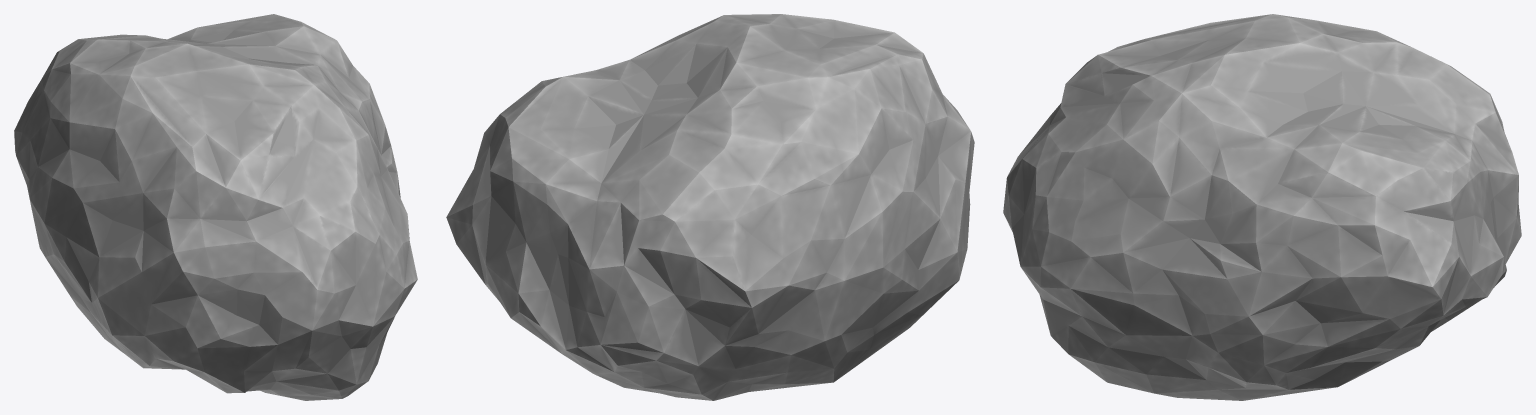
The model's file is stone1.glb.
The picture shows the model from 3 angles, left to right: view 1: azimuth 30°, elevation 25°; view 2: azimuth 150°, elevation 25°; view 3: azimuth 270°, elevation 25°; orthographic projection. The views are drawn at different scales.
Parts seen in each view (by area): view 1: R4; view 2: R4; view 3: R4.
Part boxes in pixels (box(x1,y1,x2,y2)): R4: box(14, 14, 417, 400); R4: box(446, 14, 974, 400); R4: box(1003, 14, 1521, 400).
Size of the model in its own units: 1.66 by 1.43 by 2.11.
Materials: 1 (1 with a texture image).
